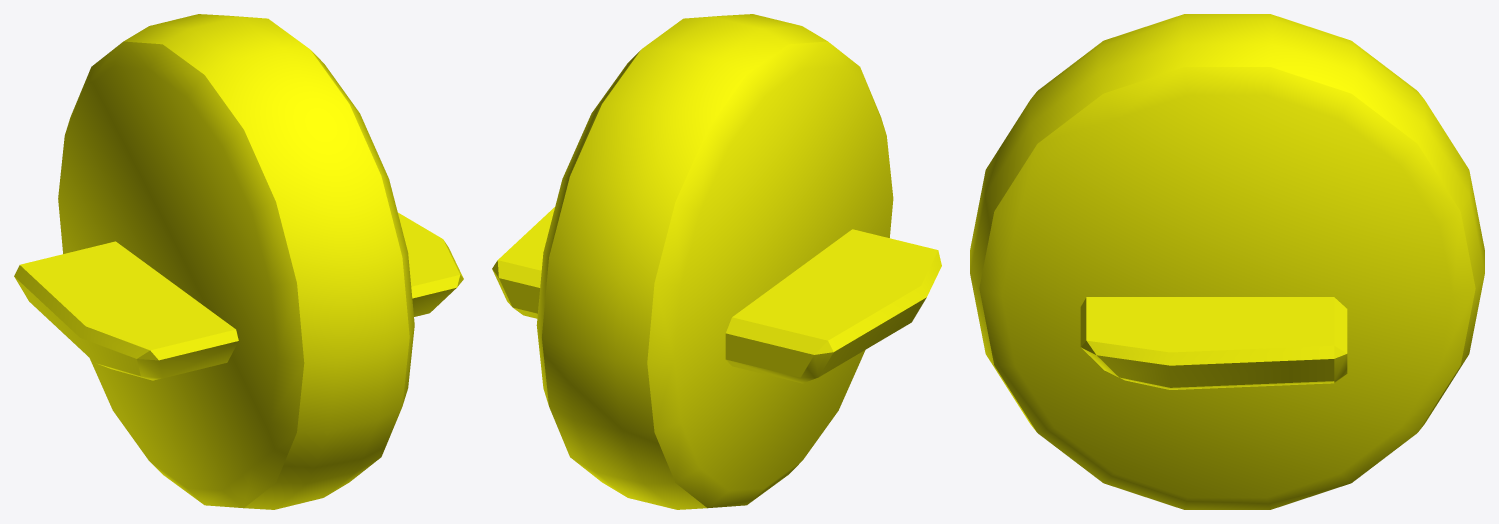
The model's file is mount_wheel.glb.
The picture shows the model from 3 angles, left to right: view 1: azimuth 30°, elevation 25°; view 2: azimuth 150°, elevation 25°; view 3: azimuth 270°, elevation 25°; orthographic projection. The views are drawn at different scales.
Visible parts, largest first — view 1: Cylinder001; view 2: Cylinder001; view 3: Cylinder001.
Part boxes in pixels (x1,y1,x2,y2): Cylinder001: [14, 14, 463, 509]; Cylinder001: [492, 14, 941, 509]; Cylinder001: [970, 14, 1484, 509].
Bounding box in the file's own units: 0.3366 × 0.3891 × 0.3951.
1 material, 1 textured.
